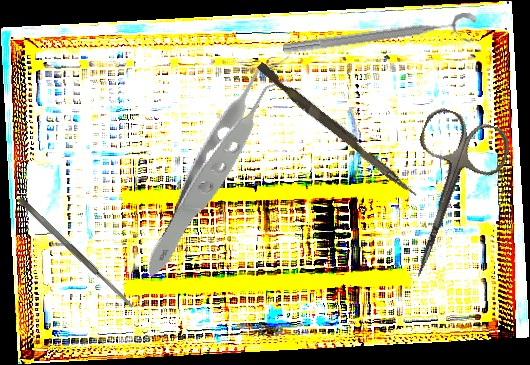Fixation Ring: (281, 11, 480, 70)
Iris Scissors: (375, 103, 515, 292)
Pusher: (253, 61, 423, 199)
Spatula Surgical: (17, 195, 135, 311)
Tissue Forceps: (88, 51, 355, 279)
